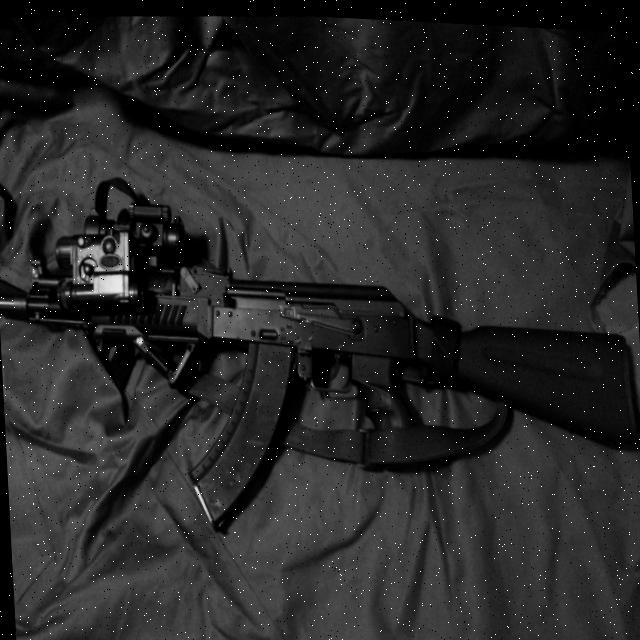firearm: (0, 170, 640, 558)
